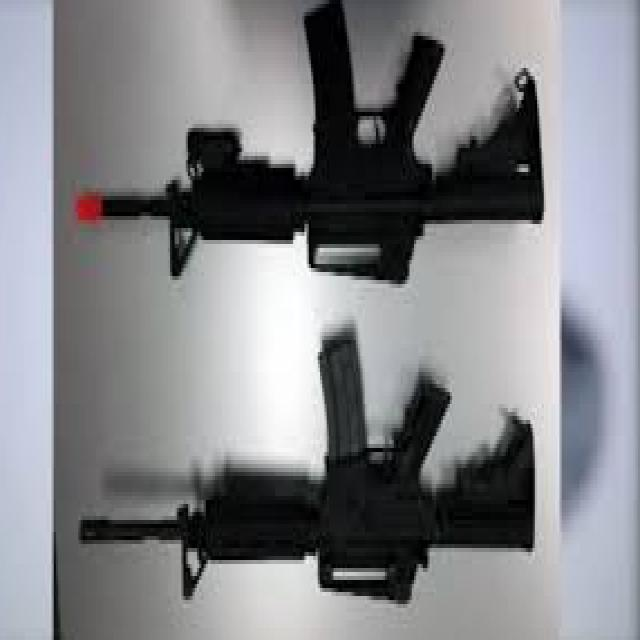gun: (47, 0, 550, 332), (48, 316, 546, 606)
